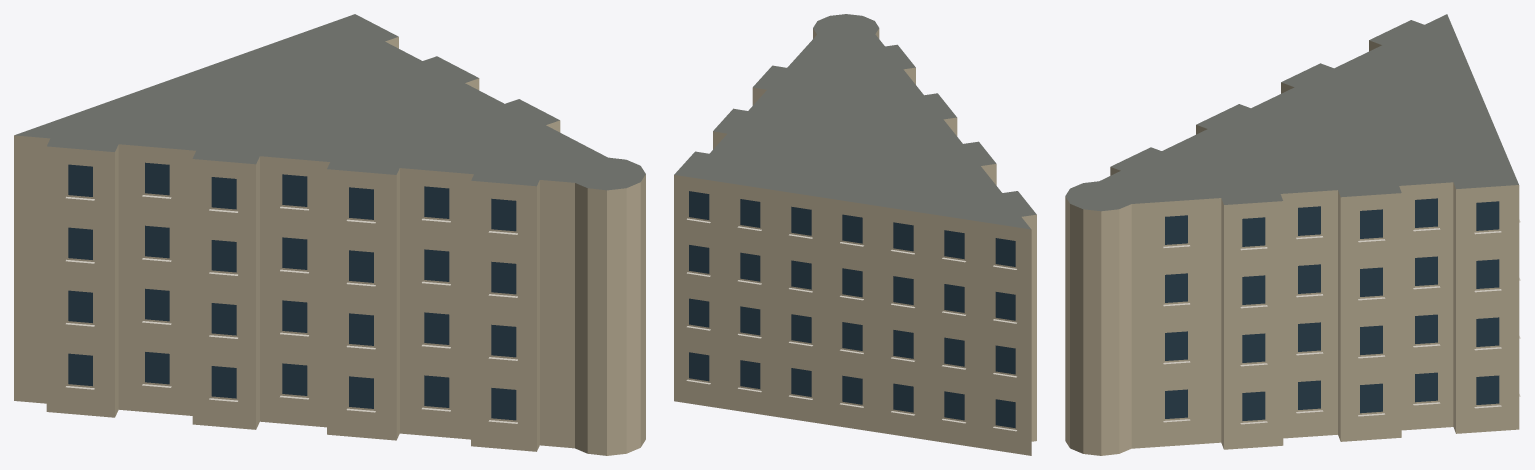
3 renders of one model, left to right at view 1: azimuth 30°, elevation 25°; view 2: azimuth 150°, elevation 25°; view 3: azimuth 270°, elevation 25°, orthographic. The views are drawn at different scales.
Parts seen in each view (by area): view 1: Footprint 0, Inferred window bays, Window sills; view 2: Footprint 0, Inferred window bays, Window sills; view 3: Footprint 0, Inferred window bays, Window sills.
Boxes of the visible parts, x1=… form: Footprint 0: x1=14, y1=14, x2=645, y2=455; Inferred window bays: x1=68, y1=162, x2=516, y2=420; Window sills: x1=66, y1=195, x2=517, y2=423; Footprint 0: x1=674, y1=14, x2=1036, y2=455; Inferred window bays: x1=689, y1=191, x2=1015, y2=428; Window sills: x1=686, y1=218, x2=1016, y2=431; Footprint 0: x1=1065, y1=14, x2=1519, y2=455; Inferred window bays: x1=1165, y1=198, x2=1499, y2=420; Window sills: x1=1163, y1=219, x2=1520, y2=424.
Size of the model in its own units: 24.82 by 14.35 by 24.21.
